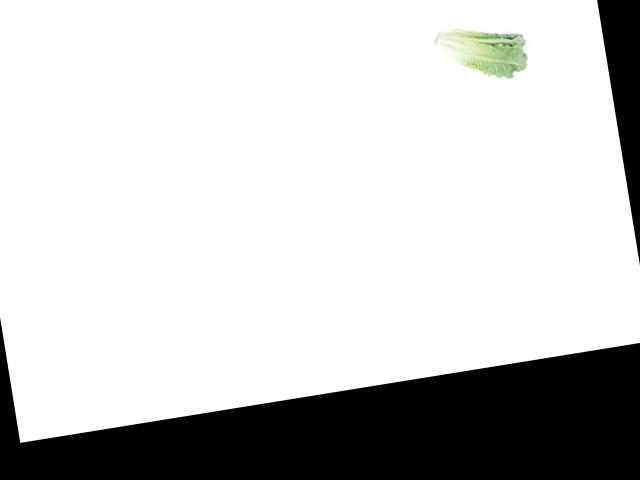lettuce: (426, 15, 533, 88)
